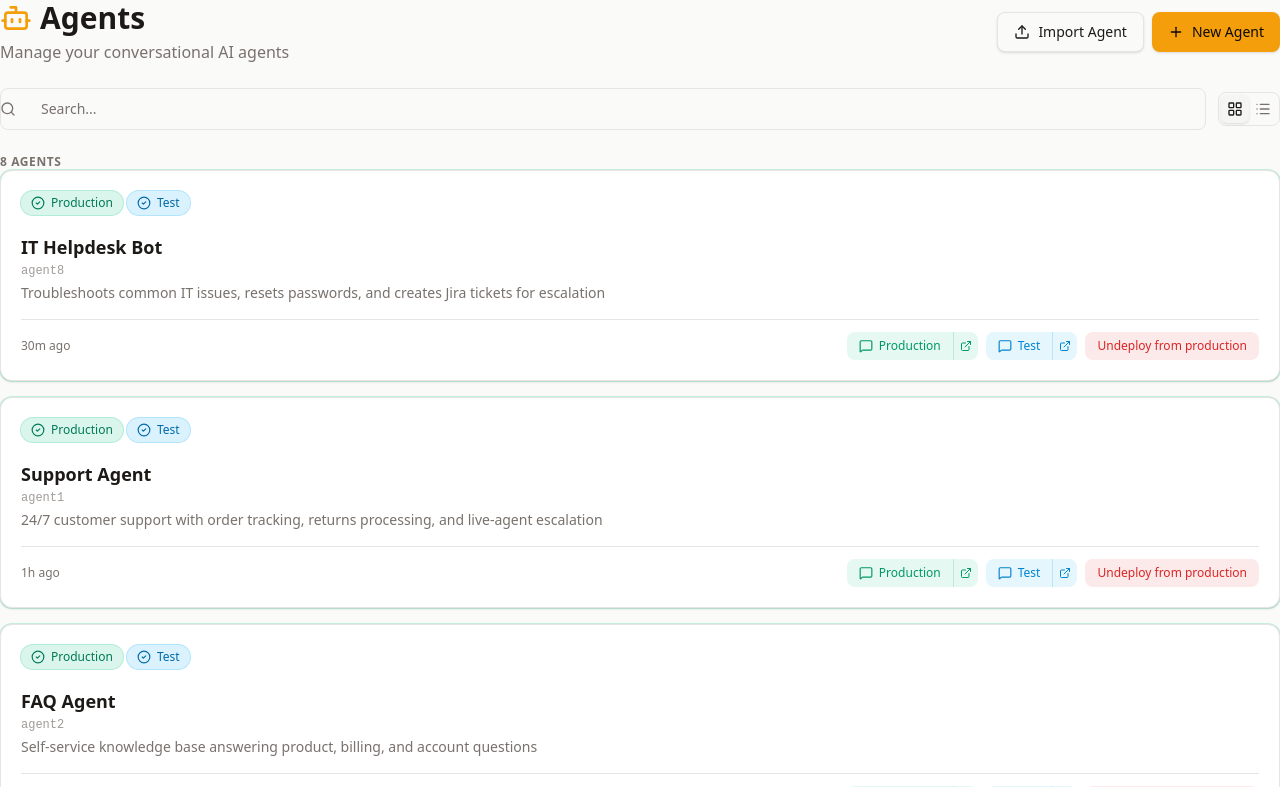
Test: AgentsPage › filters the list down to the matching agent
Expected: the link "Support Agent" is shown, [21,462,169,486]
Expected: the link "FAQ Agent" is shown, [21,689,116,713]
Type "FAQ" into the field with test id "agent-search" at (603, 109), box [0,88,1206,130]
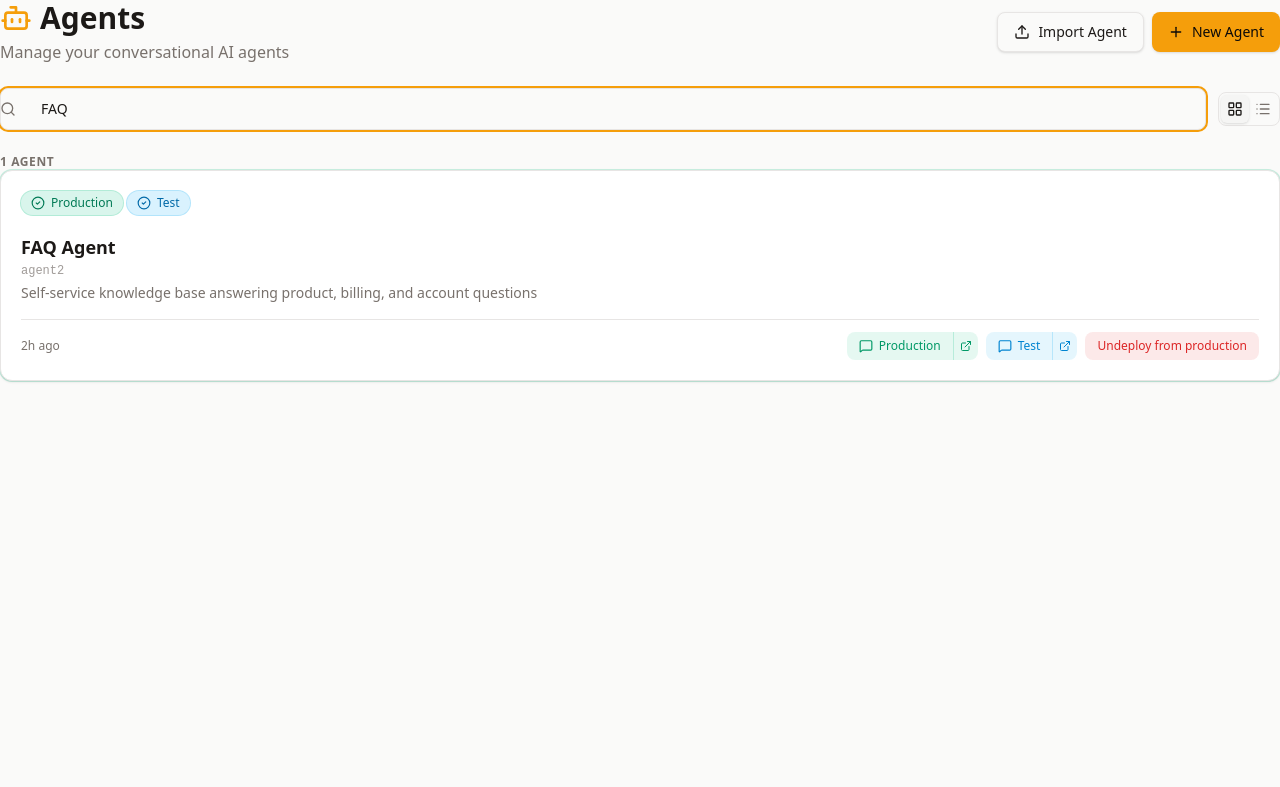
Expected: the link "FAQ Agent" is shown, [21,235,116,259]
Expected: the link "Support Agent" is gone
